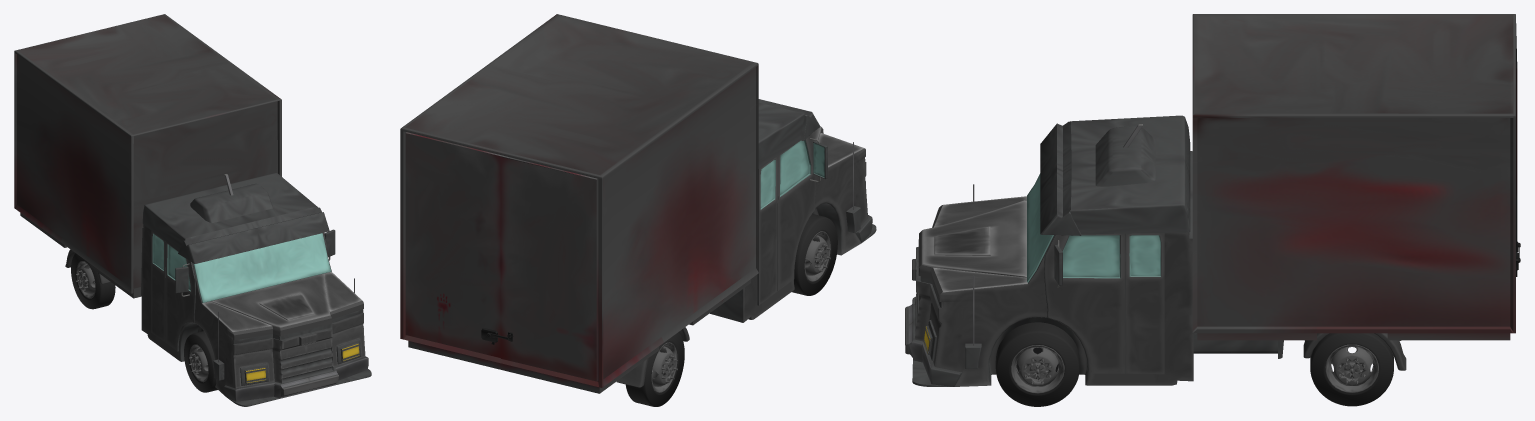
Rendered from TruckKillerHorror.fbx.
3 renders of one model, left to right at view 1: azimuth 30°, elevation 25°; view 2: azimuth 150°, elevation 25°; view 3: azimuth 270°, elevation 25°, orthographic. The views are drawn at different scales.
Parts seen in each view (by area): view 1: Cacamba, Caminhao, RodaDireitaDaFrente, RodaDeTrazDireita; view 2: Cacamba, Caminhao, RodaDireitaDaFrente, RodaDeTrazDireita; view 3: Cacamba, Caminhao, RodaEsquerdaDaFrente, RodaDeTrazEsquerda.
Boxes of the visible parts, x1,y1,x2,y2 form: Cacamba: (14, 14, 281, 298); Caminhao: (65, 173, 371, 406); RodaDireitaDaFrente: (184, 331, 217, 392); RodaDeTrazDireita: (71, 253, 115, 309); Cacamba: (400, 14, 758, 393); Caminhao: (616, 99, 876, 387); RodaDireitaDaFrente: (792, 213, 837, 295); RodaDeTrazDireita: (625, 332, 684, 406); Cacamba: (1192, 14, 1520, 340); Caminhao: (905, 115, 1406, 386); RodaEsquerdaDaFrente: (995, 322, 1079, 406); RodaDeTrazEsquerda: (1310, 333, 1393, 406).
Bounding box in the file's own units: 214 × 278 × 518.
